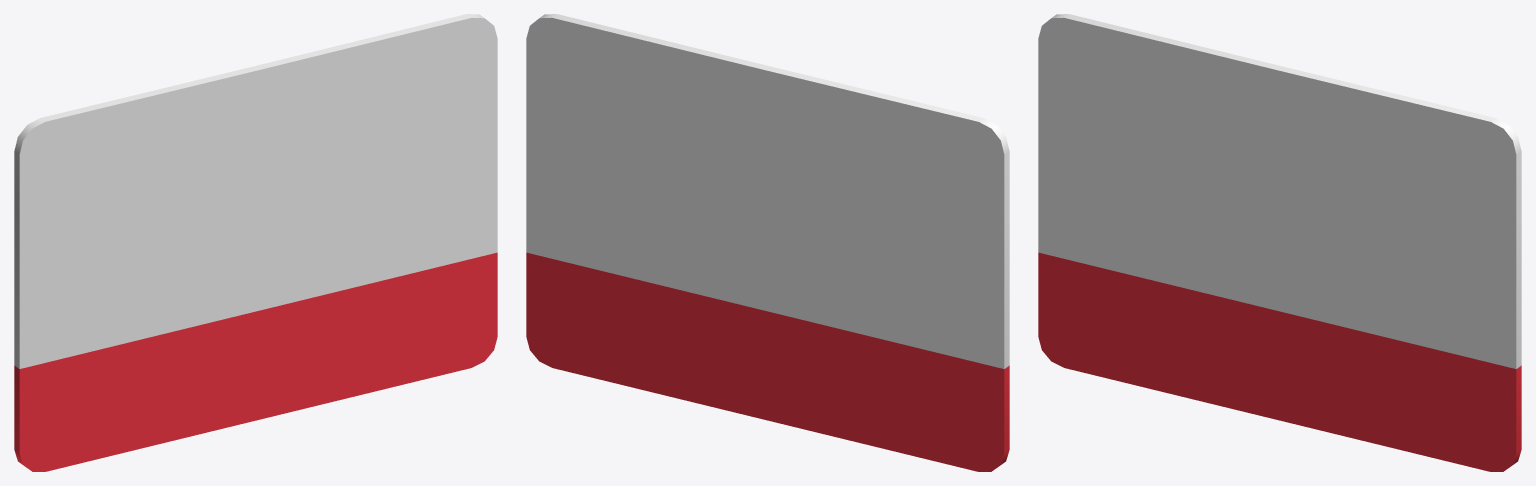
The model's file is wearable_details_card.glb.
3 views of the same model, side by side, from view 1: azimuth 30°, elevation 25°; view 2: azimuth 150°, elevation 25°; view 3: azimuth 330°, elevation 25° (orthographic).
Parts seen in each view (by area): view 1: wearable_card; view 2: wearable_card; view 3: wearable_card.
Boxes of the visible parts, bbox=[...] form: wearable_card: bbox=[14, 14, 497, 471]; wearable_card: bbox=[526, 14, 1009, 471]; wearable_card: bbox=[1038, 14, 1521, 471].
Bounding box in the file's own units: 1 × 0.6999 × 0.0187.
Materials: 1 (1 with a texture image).
